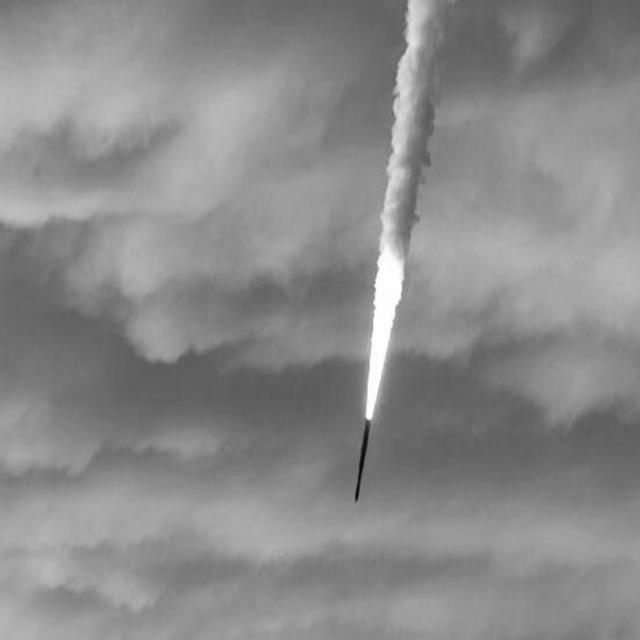missile: (350, 404, 374, 514)
